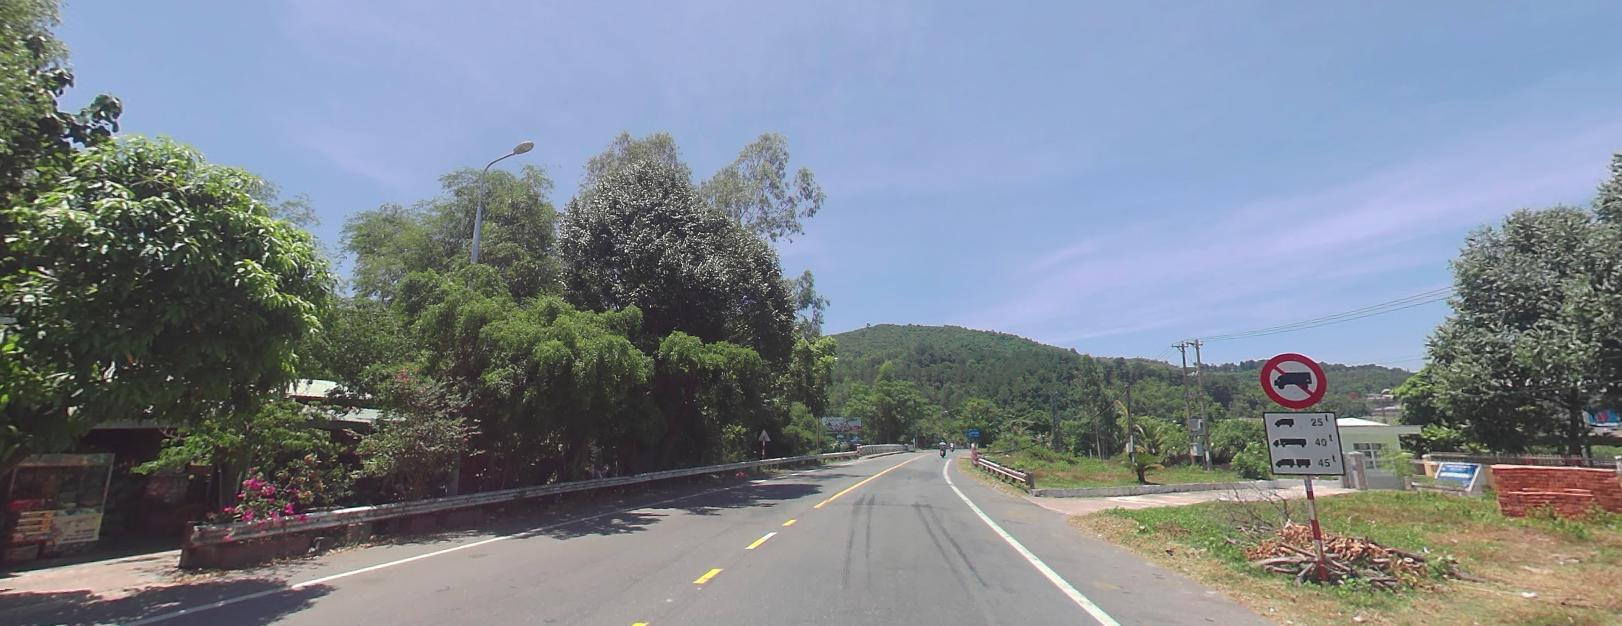Cam con lai: (1257, 345, 1329, 409)
